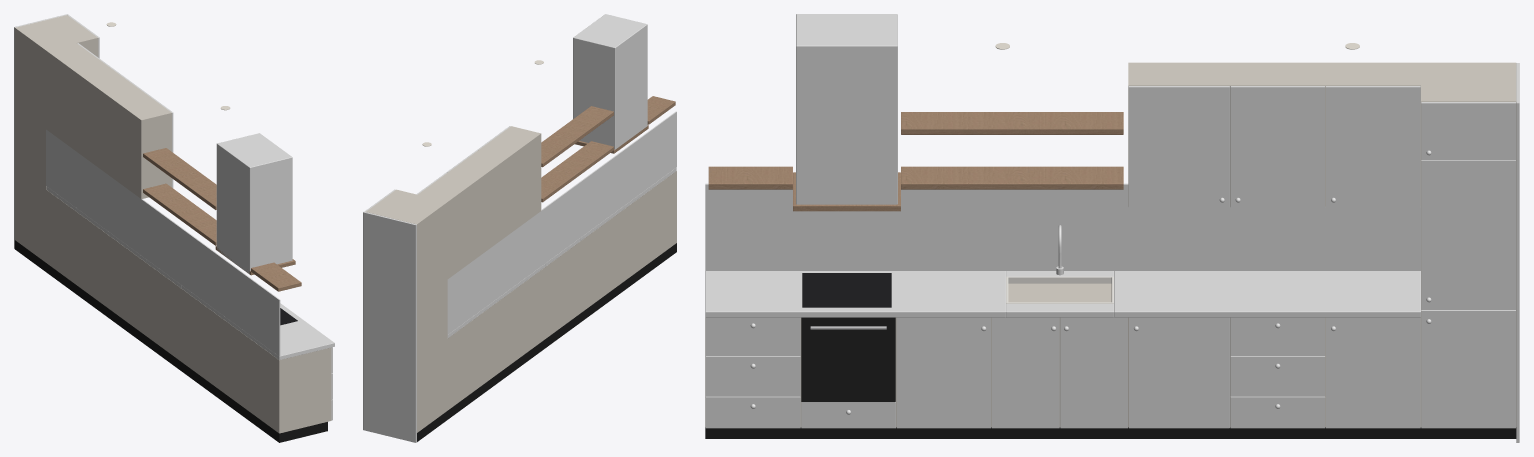
File: kitchen__0_0.glb
The picture shows the model from 3 angles, left to right: view 1: azimuth 30°, elevation 25°; view 2: azimuth 150°, elevation 25°; view 3: azimuth 270°, elevation 25°; orthographic projection. The views are drawn at different scales.
Visible parts, largest first — view 1: carcass, splashback, upper carcass, hood, tall carcass, open shelves, plinth, worktop; view 2: carcass, splashback, fridge end panel, upper carcass, hood, tall carcass, open shelves, plinth, worktop; view 3: fronts, splashback, upper fronts, worktop, hood, open shelves, plinth, oven, upper carcass, tall carcass, carcass, hob (+3 smaller).
Part boxes in pixels (bbox=[...]): carcass: bbox=[46, 189, 331, 433]; splashback: bbox=[46, 129, 280, 356]; upper carcass: bbox=[46, 43, 171, 199]; hood: bbox=[216, 133, 292, 273]; tall carcass: bbox=[15, 15, 98, 262]; open shelves: bbox=[143, 148, 301, 291]; plinth: bbox=[15, 240, 327, 442]; worktop: bbox=[46, 186, 334, 359]; carcass: bbox=[447, 171, 676, 410]; splashback: bbox=[447, 111, 676, 334]; fridge end panel: bbox=[363, 211, 416, 442]; upper carcass: bbox=[418, 126, 541, 278]; hood: bbox=[573, 14, 647, 149]; tall carcass: bbox=[366, 189, 447, 432]; open shelves: bbox=[541, 96, 675, 202]; plinth: bbox=[417, 243, 676, 441]; worktop: bbox=[447, 167, 676, 337]; fronts: bbox=[705, 102, 1515, 428]; splashback: bbox=[705, 183, 1420, 270]; upper fronts: bbox=[1128, 86, 1420, 207]; worktop: bbox=[705, 271, 1420, 317]; hood: bbox=[796, 14, 897, 204]; open shelves: bbox=[708, 112, 1123, 189]; plinth: bbox=[705, 427, 1516, 438]; oven: bbox=[801, 317, 895, 402]; upper carcass: bbox=[1128, 62, 1420, 206]; tall carcass: bbox=[1421, 62, 1516, 426]; carcass: bbox=[705, 283, 1420, 427]; hob: bbox=[802, 273, 891, 307].
Bounding box in the file's own units: 0.63 × 2.7 × 5.12.
15 materials, 1 textured.
